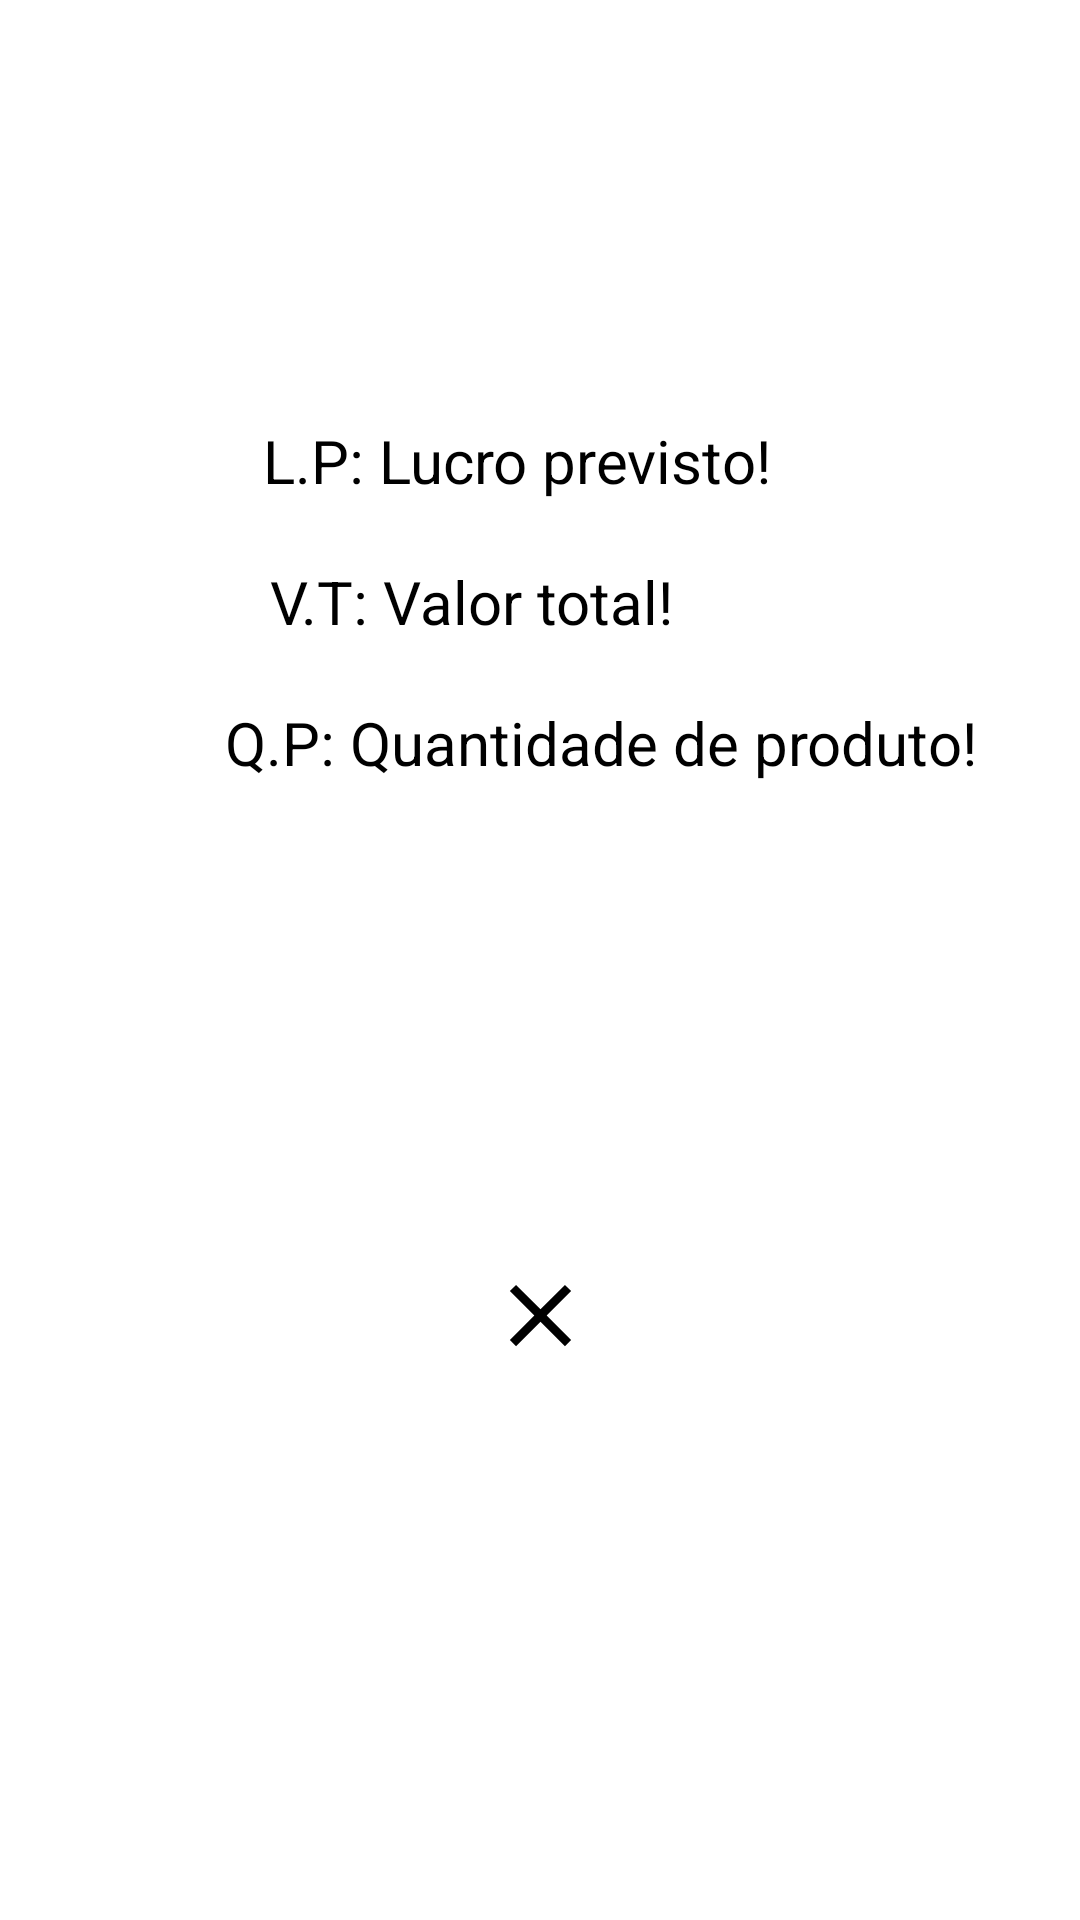

Where icons sit on this 1080px x 1920px app screen, as detection(x1, y1, x2, y2):
close: detection(510, 1285, 571, 1346)
